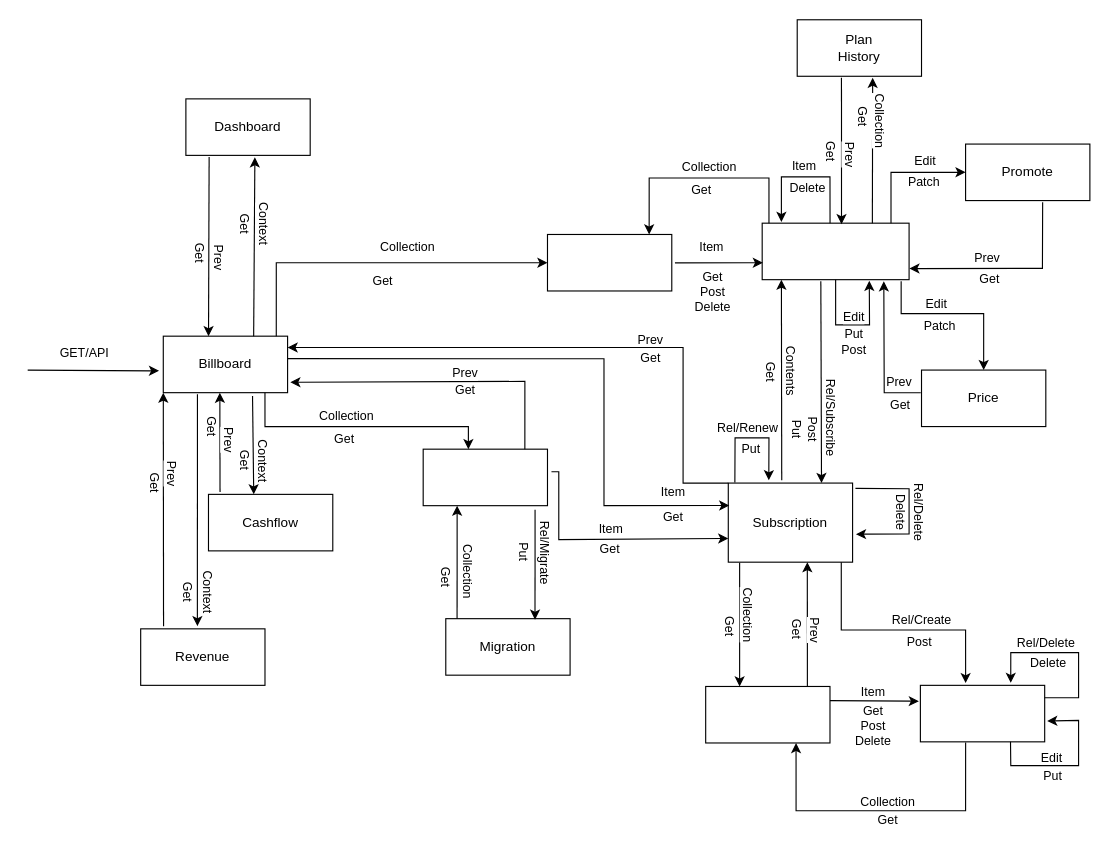
This 1110x846 diagram has some shape labels left out. The centre of each missing label's shape, as x and y in pixels:
Device: the point at 982,713
Devices List: the point at 767,714
Plan: the point at 835,251
Plans Collection: the point at 609,262
Subscriptions Collection: the point at 484,477
